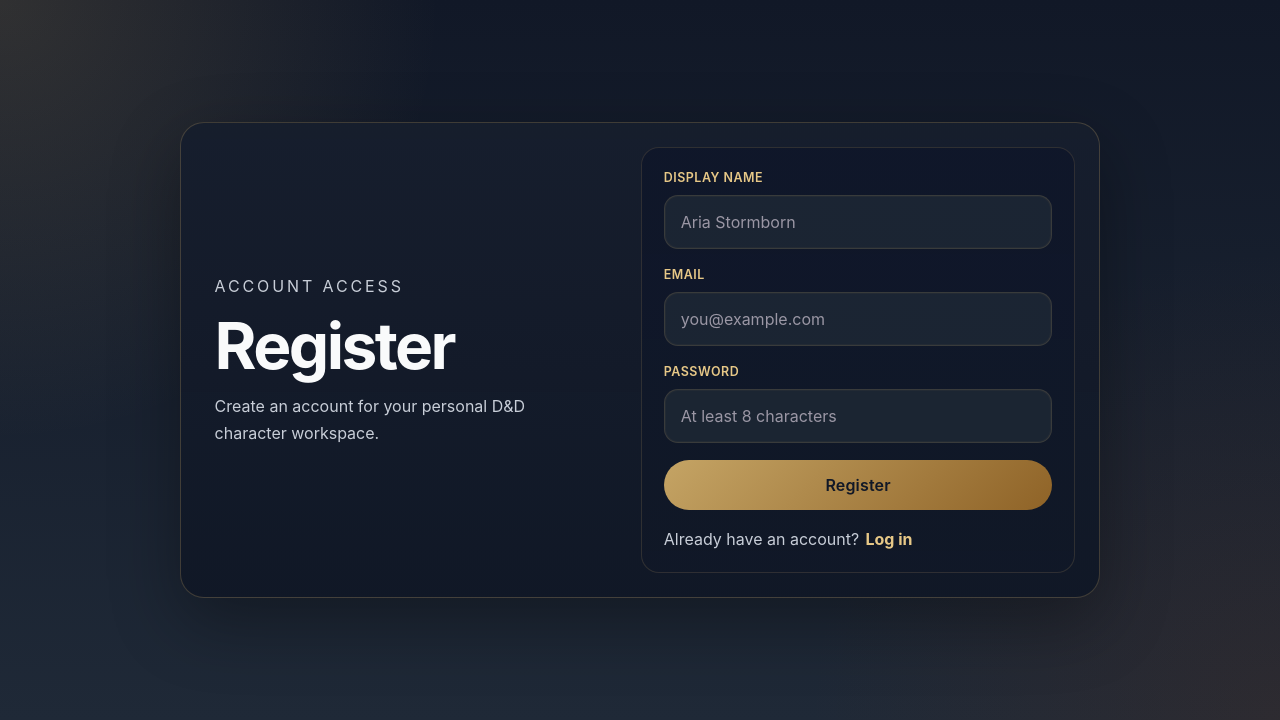
Test: AuthForm › submits register credentials and displays auth errors
Type "Aria" into the field labelled "Display name".
click(858, 222); type("Aria")  # box 664,195 -> 1052,249
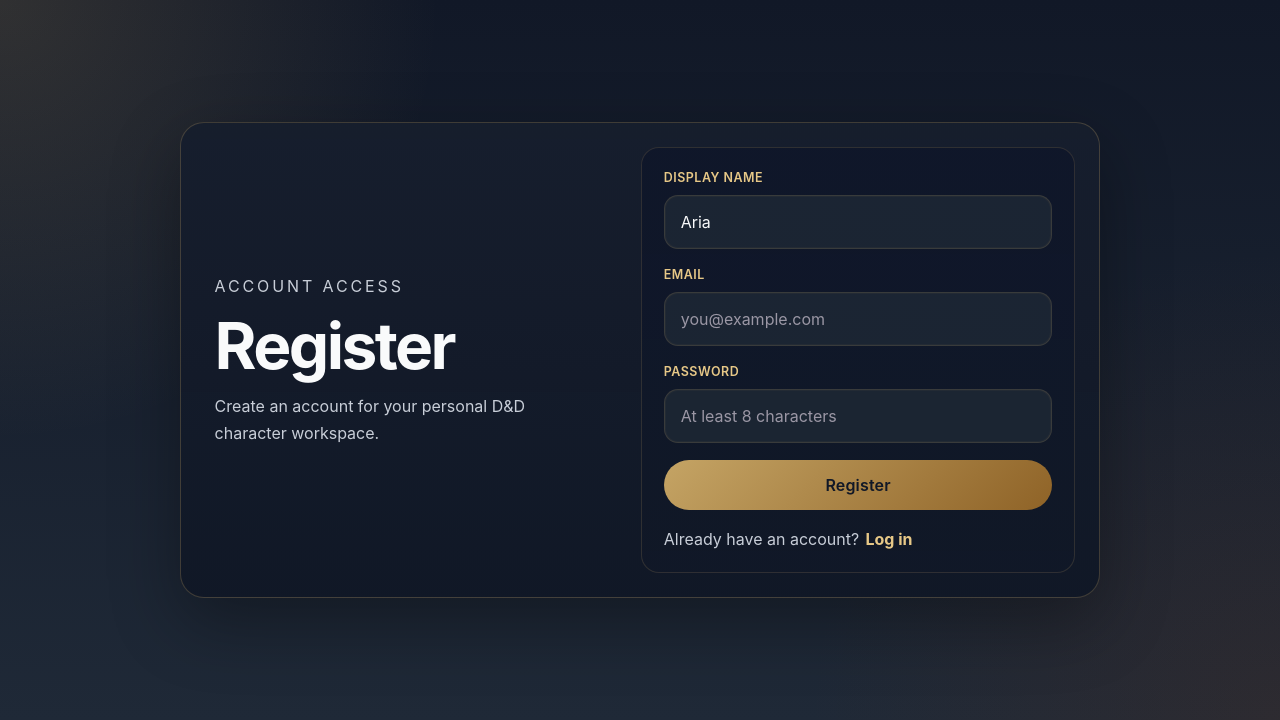
Type "aria@example.com" into the field labelled "Email".
click(858, 319); type("aria@example.com")  # box 664,292 -> 1052,346
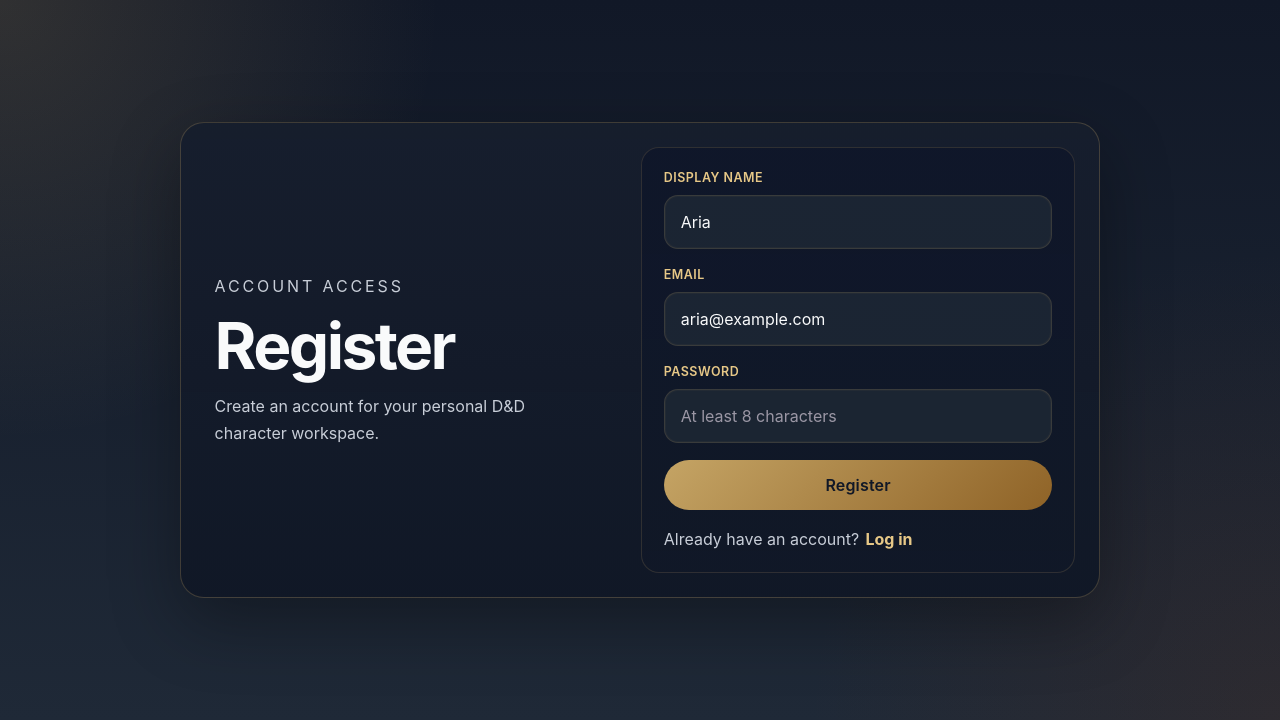
Type "password" into the password field labelled "Password".
click(858, 416); type("password")  # box 664,389 -> 1052,443
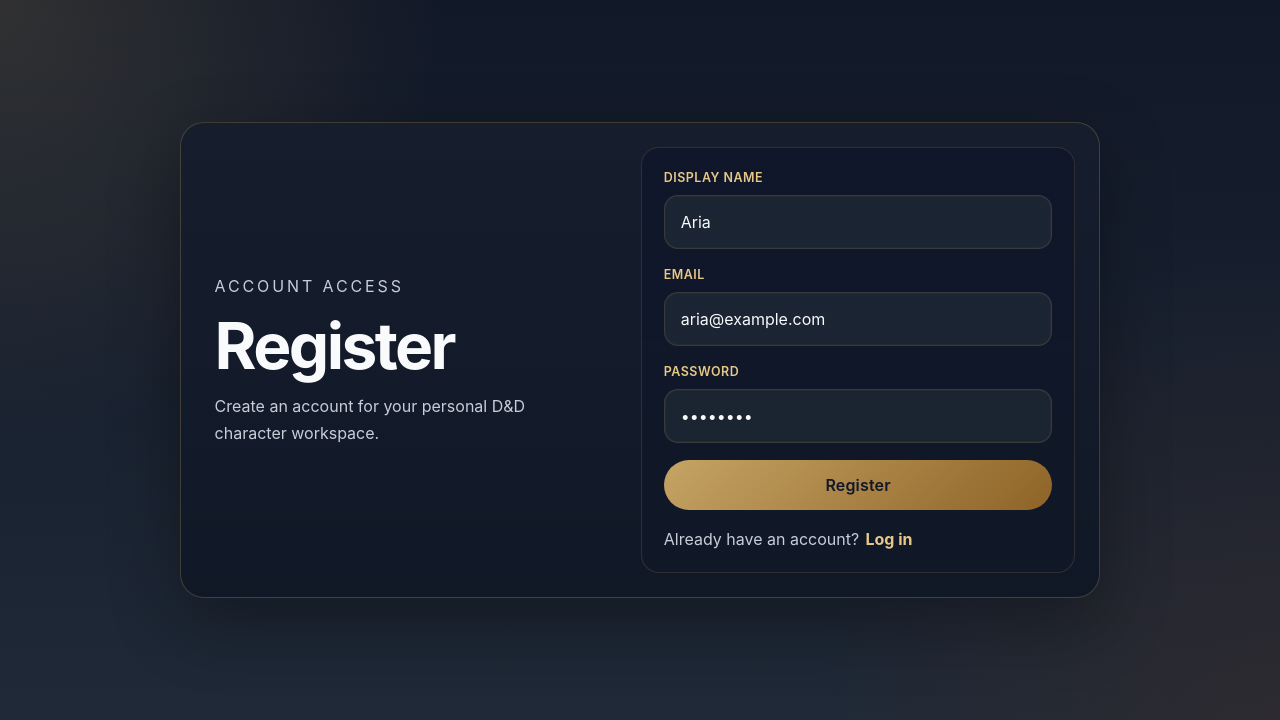
Submit the form from the button "Register", box 664,460 -> 1052,510
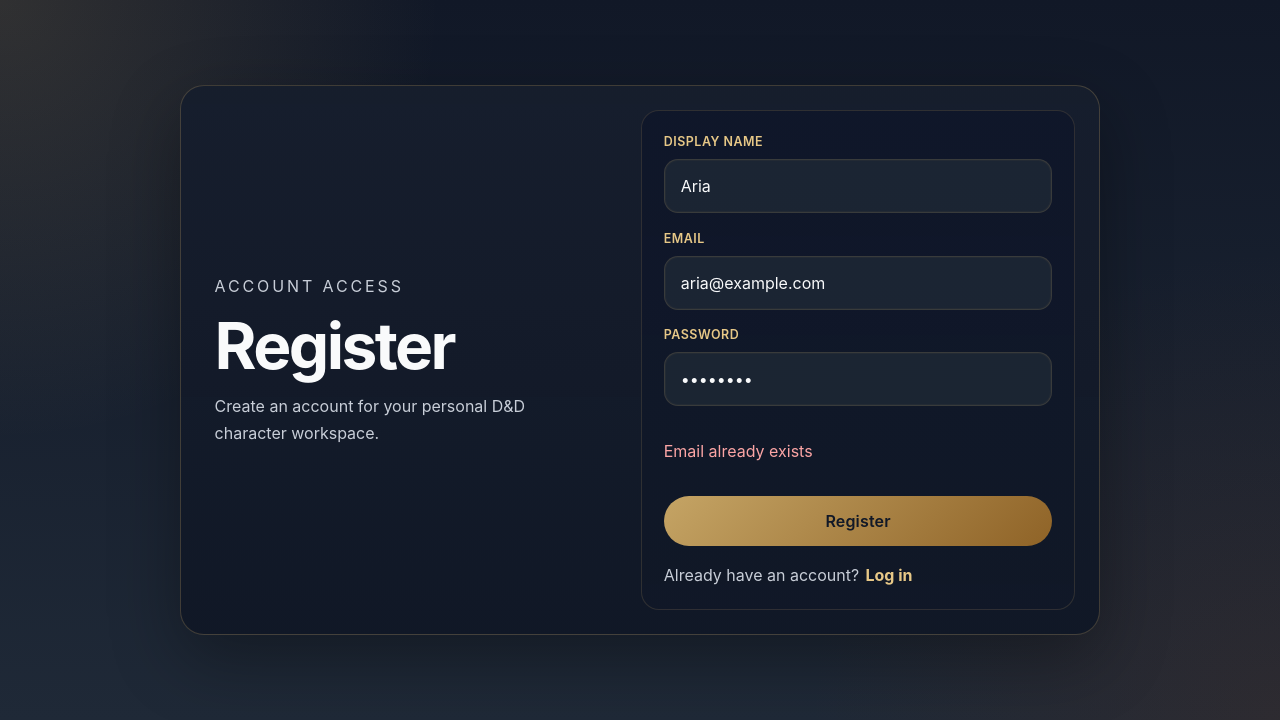
Now the text "Email already exists" is shown, box 664,441 -> 813,461
